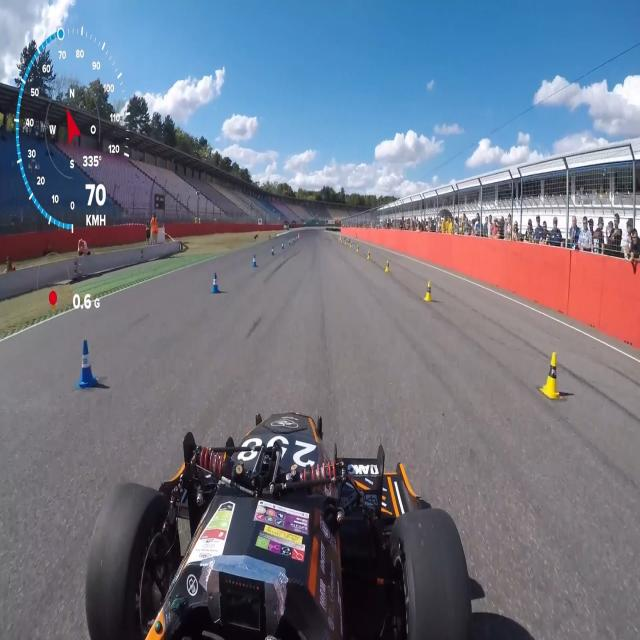blue_cone: (77, 337, 98, 392), (212, 272, 220, 295), (252, 255, 257, 267)
yellow_cone: (539, 351, 563, 398), (424, 279, 433, 302), (385, 260, 390, 273)
